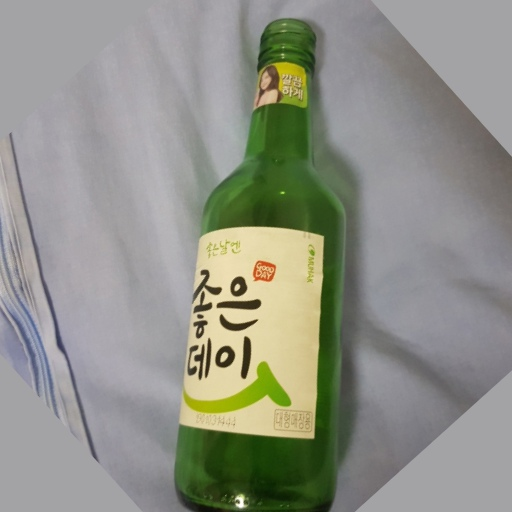Glass_0: (179, 19, 351, 512)
